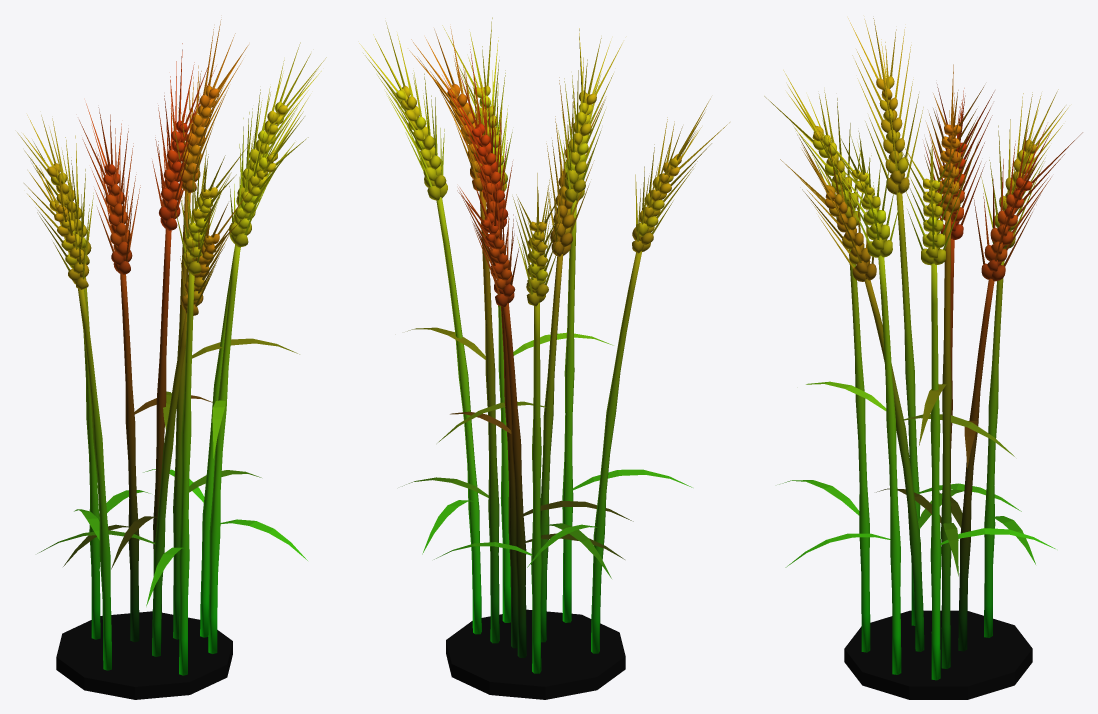
Rendered from HOB_WheatClump_LOD0.fbx.
3 views of the same model, side by side, from view 1: azimuth 30°, elevation 25°; view 2: azimuth 150°, elevation 25°; view 3: azimuth 270°, elevation 25° (orthographic). The views are drawn at different scales.
Parts seen in each view (by area): view 1: HOB_WheatClump_LOD0; view 2: HOB_WheatClump_LOD0; view 3: HOB_WheatClump_LOD0.
Part boxes in pixels (x1,y1,x2,y2): HOB_WheatClump_LOD0: [17, 19, 326, 699]; HOB_WheatClump_LOD0: [359, 17, 729, 699]; HOB_WheatClump_LOD0: [764, 18, 1082, 699].
Size of the model in its own units: 80.8 by 143 by 65.08.
